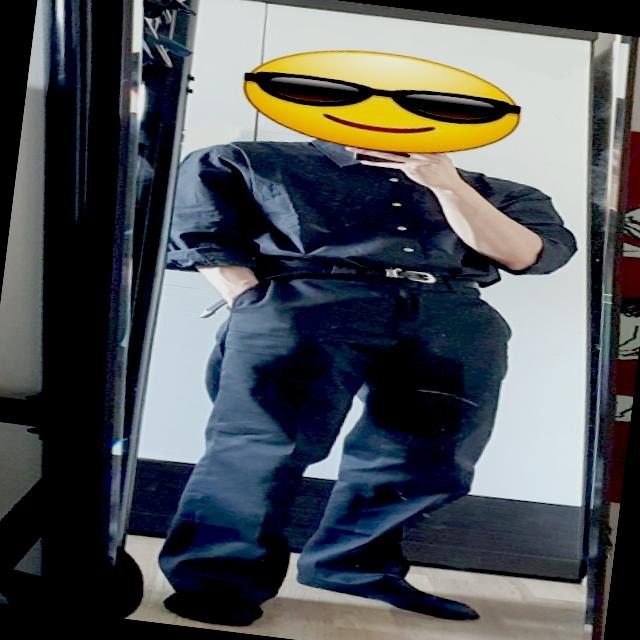denimpants: (152, 237, 525, 640)
shirt: (176, 131, 588, 307)
